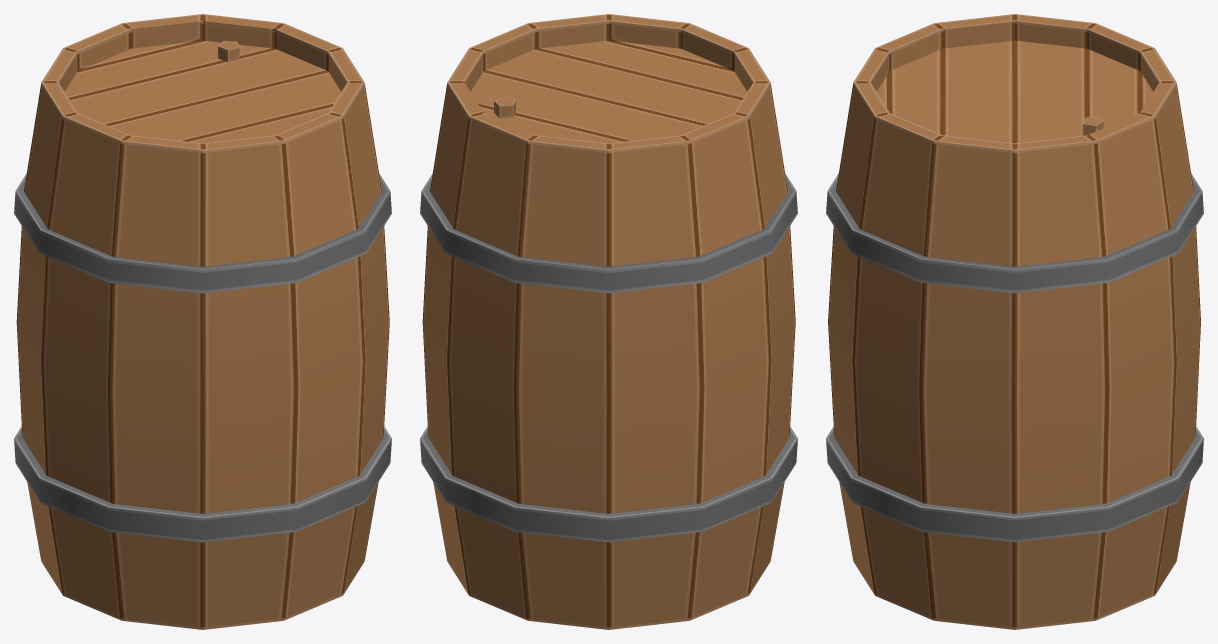
The model's file is Barrel.fbx.
3 renders of one model, left to right at view 1: azimuth 30°, elevation 25°; view 2: azimuth 150°, elevation 25°; view 3: azimuth 270°, elevation 25°, orthographic.
Parts seen in each view (by area): view 1: Cylinder; view 2: Cylinder; view 3: Cylinder.
Part boxes in pixels (x1,y1,x2,y2): Cylinder: (14, 14, 391, 629); Cylinder: (420, 14, 797, 629); Cylinder: (826, 14, 1203, 629).
Bounding box in the file's own units: 64.31 × 90 × 64.31.
